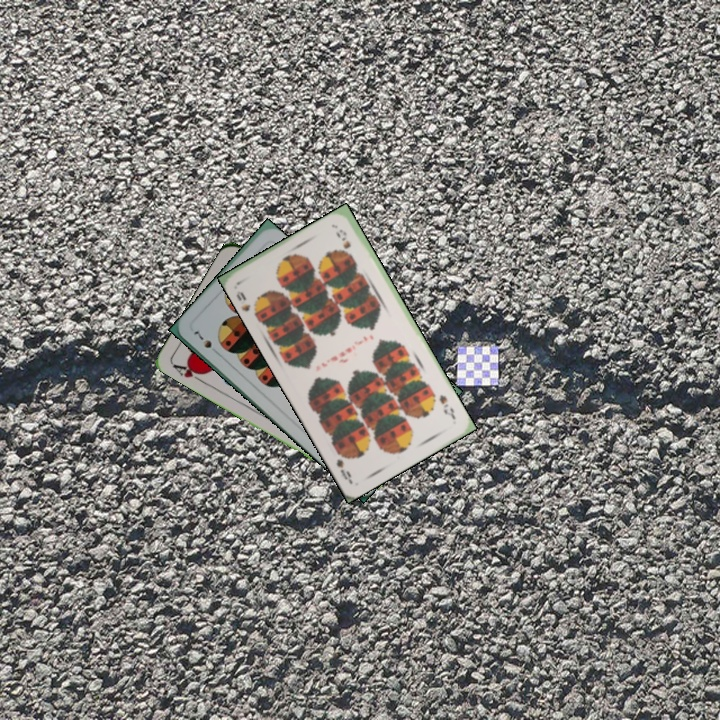HA: (168, 359, 207, 385)
S7: (190, 327, 222, 357)
S9: (232, 287, 263, 319), (435, 390, 458, 422)
